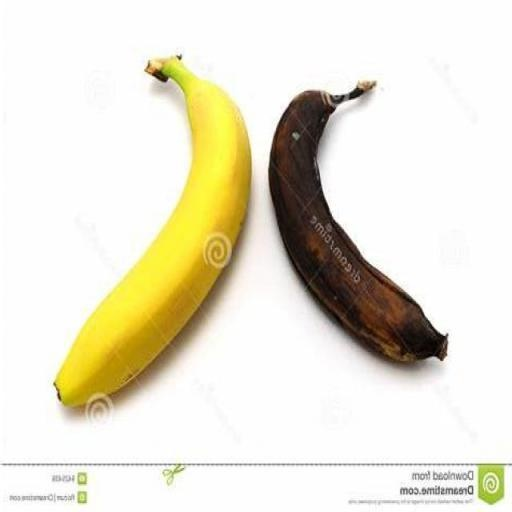fruit: (55, 57, 250, 405), (268, 82, 446, 361)
